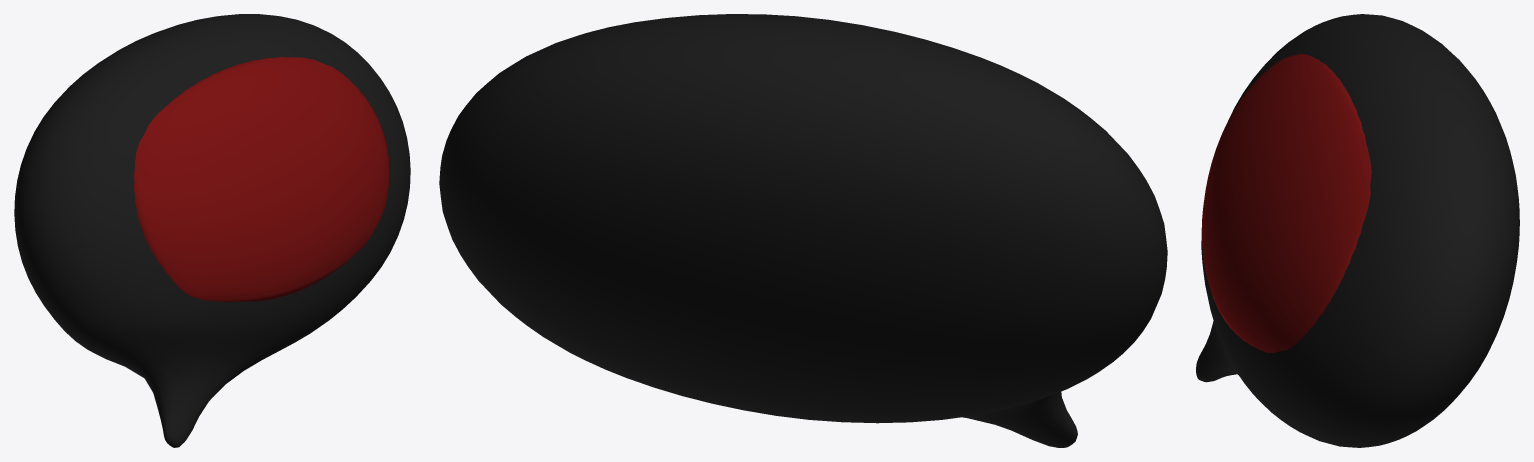
Rendered from Message.glb.
3 renders of one model, left to right at view 1: azimuth 30°, elevation 25°; view 2: azimuth 150°, elevation 25°; view 3: azimuth 270°, elevation 25°, orthographic. The views are drawn at different scales.
Parts seen in each view (by area): view 1: Box002; view 2: Box002; view 3: Box002.
Boxes of the visible parts, x1,y1,x2,y2 form: Box002: (14, 14, 410, 447); Box002: (439, 14, 1167, 447); Box002: (1196, 14, 1519, 447).
Size of the model in its own units: 0.0287 by 0.0211 by 0.0165.
